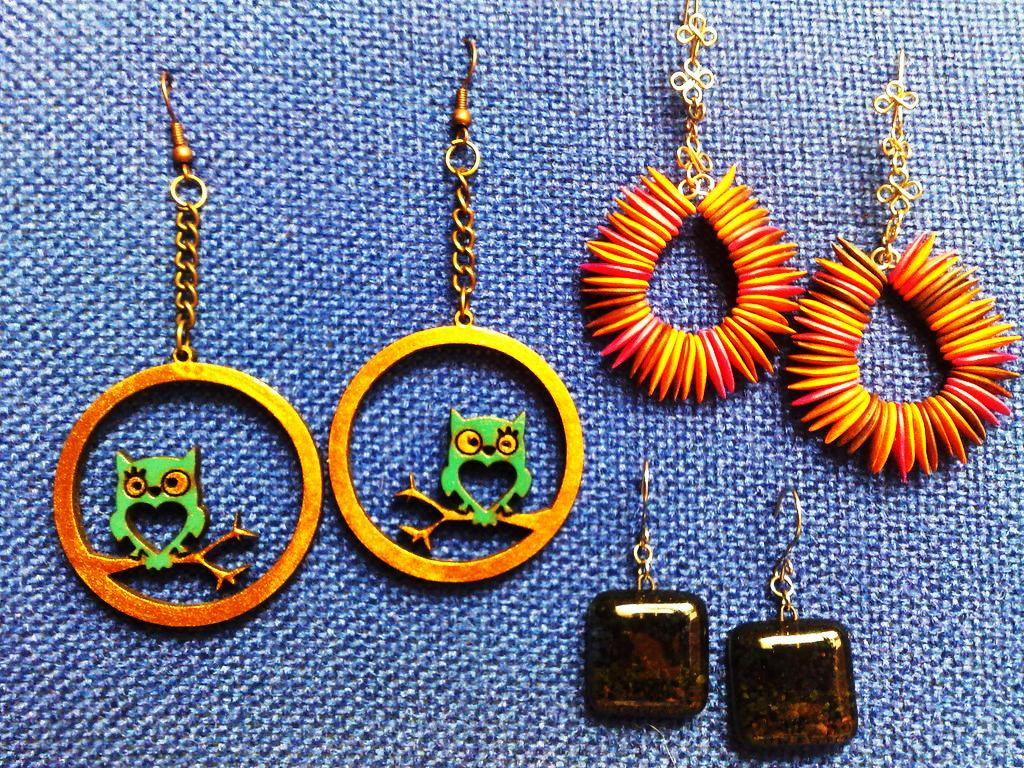Owl: (72, 440, 210, 586), (432, 406, 547, 540)
